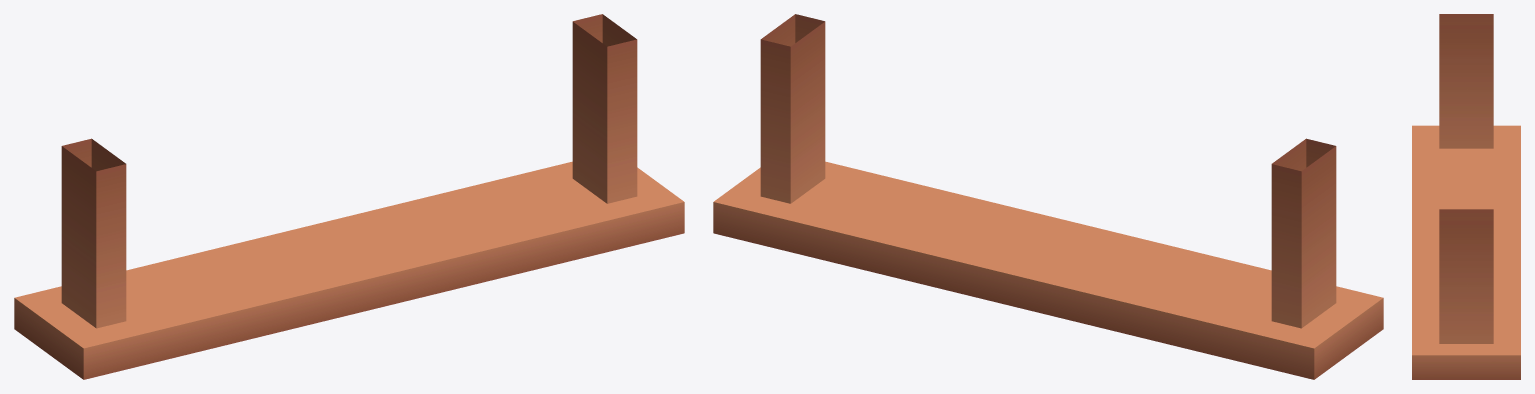
The model's file is coaster-wood-segment.glb.
3 renders of one model, left to right at view 1: azimuth 30°, elevation 25°; view 2: azimuth 150°, elevation 25°; view 3: azimuth 270°, elevation 25°, orthographic. The views are drawn at different scales.
Visible parts, largest first — view 1: coaster-wood-segment; view 2: coaster-wood-segment; view 3: coaster-wood-segment.
Boxes of the visible parts, box(x1,y1,x2,y2) form: coaster-wood-segment: box(14, 14, 684, 379); coaster-wood-segment: box(713, 14, 1383, 379); coaster-wood-segment: box(1412, 14, 1520, 379).
Bounding box in the file's own units: 1 × 0.3 × 0.2.
Materials: 1 (1 with a texture image).
